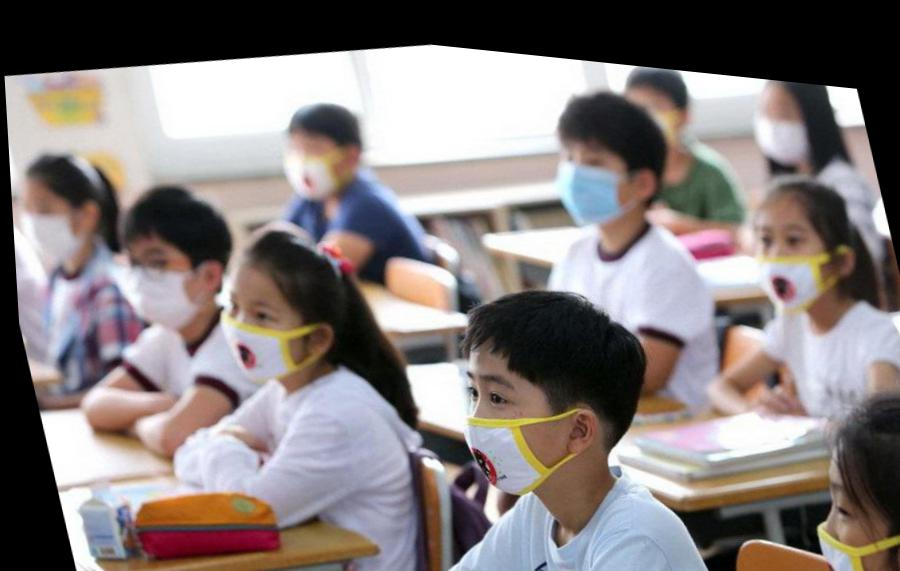OK: (205, 264, 321, 384), (548, 120, 645, 219), (115, 235, 209, 332), (14, 185, 101, 271), (271, 114, 355, 198), (747, 73, 825, 154)
WRONG: (443, 349, 580, 492), (799, 457, 900, 571), (746, 194, 846, 298)
